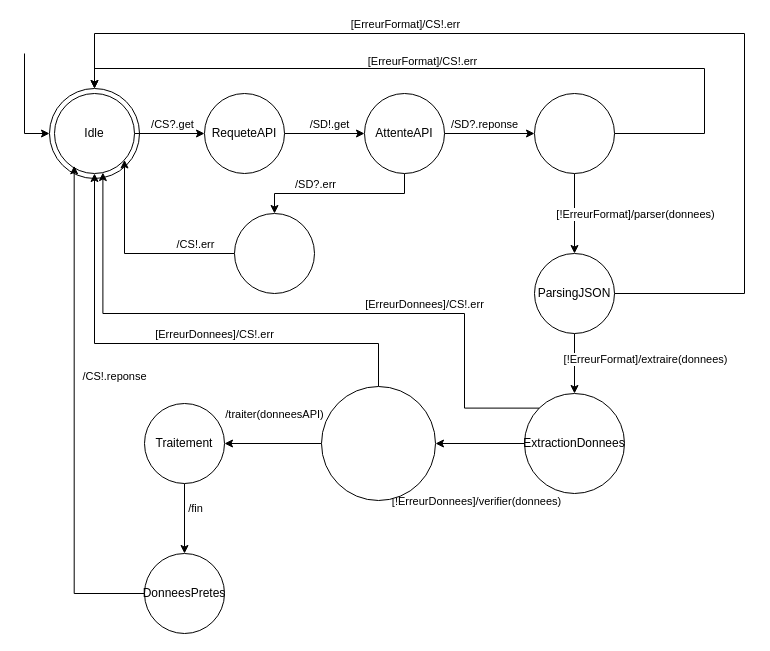
Some shapes in this 770 by 651 pixel diagram are drawn without their labels. The shapes that lost their labels are listed below. From the top down, each one's centre as x and y in pixels, then its label:
pixel 574 133: ReceptionBrute
pixel 274 253: ErreurReseau
pixel 378 443: VerificationDonnees
